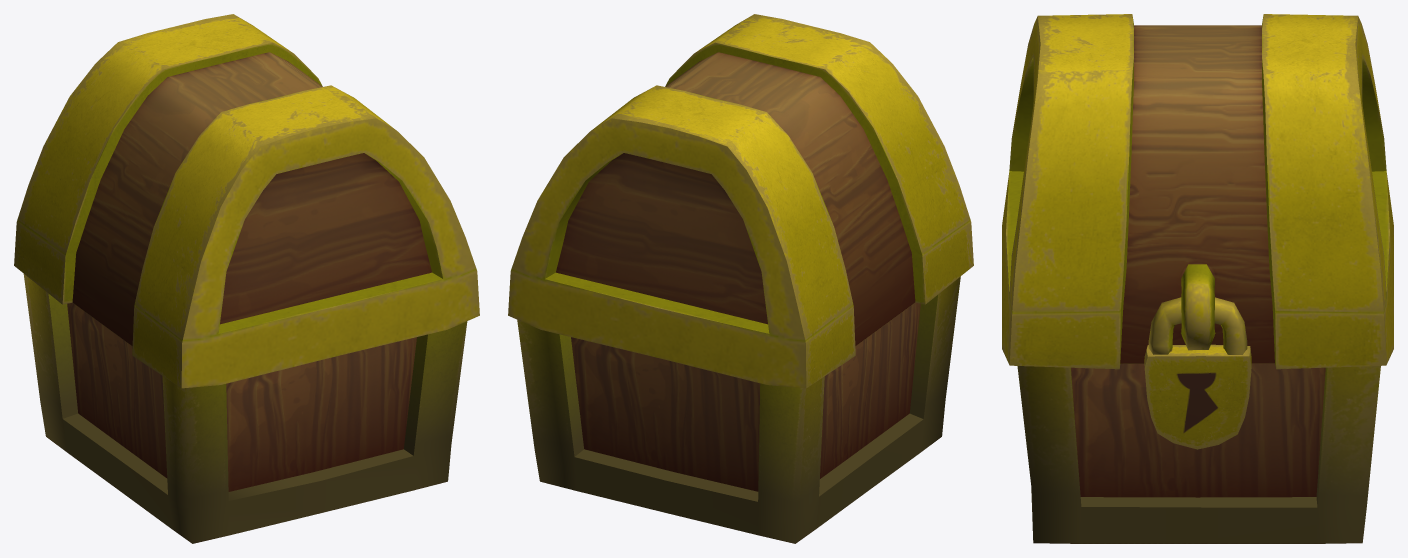
File: COFRE_UNIDO.fbx
3 views of the same model, side by side, from view 1: azimuth 30°, elevation 25°; view 2: azimuth 150°, elevation 25°; view 3: azimuth 270°, elevation 25° (orthographic). The views are drawn at different scales.
Visible parts, largest first — view 1: COFRE_ARRIBA_LOW, COFRE_ABAJO_LOW; view 2: COFRE_ARRIBA_LOW, COFRE_ABAJO_LOW; view 3: COFRE_ARRIBA_LOW, COFRE_ABAJO_LOW, CANDADO_BASE_LOW, CANDADO_LOCK_LOW.
Boxes of the visible parts, x1,y1,x2,y2 form: COFRE_ARRIBA_LOW: [14, 14, 479, 388]; COFRE_ABAJO_LOW: [23, 274, 467, 543]; COFRE_ARRIBA_LOW: [508, 14, 973, 388]; COFRE_ABAJO_LOW: [517, 276, 960, 543]; COFRE_ARRIBA_LOW: [1002, 14, 1393, 369]; COFRE_ABAJO_LOW: [1017, 363, 1380, 543]; CANDADO_BASE_LOW: [1144, 344, 1251, 449]; CANDADO_LOCK_LOW: [1148, 297, 1247, 354].
Bounding box in the file's own units: 4.43 × 5.01 × 4.13.
